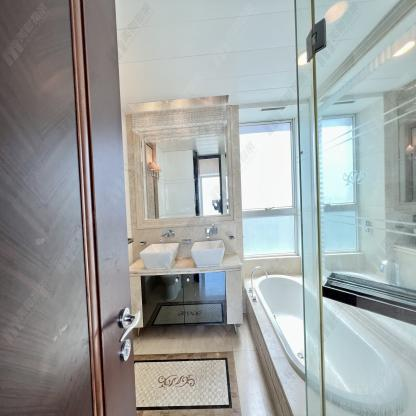Bathtub: (244, 274, 416, 416)
Toilet Sink: (139, 243, 179, 270), (190, 240, 225, 267)
